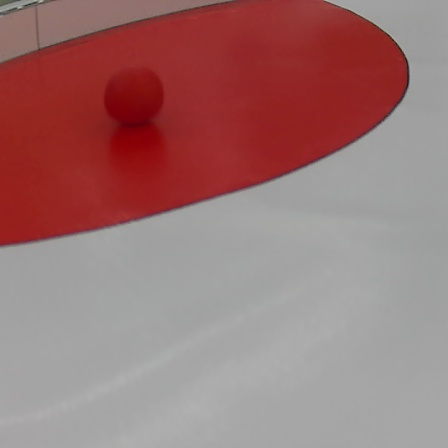red: (106, 64, 165, 120)
red_base: (0, 0, 412, 241)
